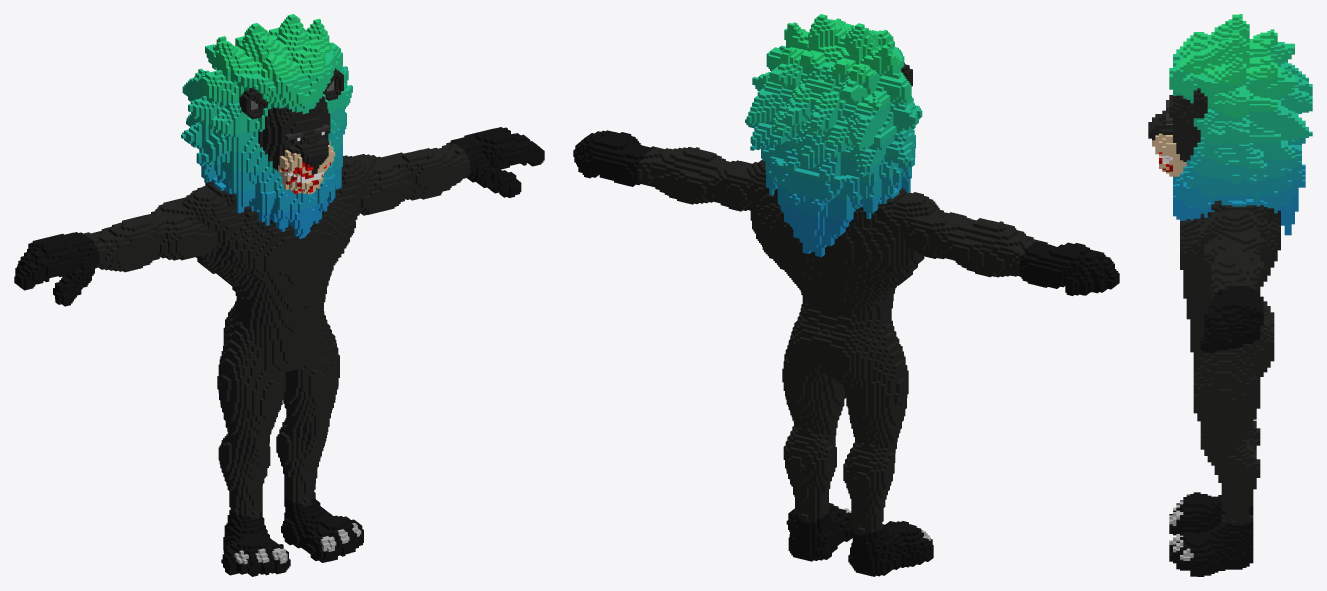
Rendered from 35-CjT2fbn5.glb.
3 renders of one model, left to right at view 1: azimuth 30°, elevation 25°; view 2: azimuth 150°, elevation 25°; view 3: azimuth 270°, elevation 25°, orthographic. The views are drawn at different scales.
Parts seen in each view (by area): view 1: blood; view 2: blood; view 3: blood.
Boxes of the visible parts, bbox=[...] form: blood: bbox=[14, 14, 544, 576]; blood: bbox=[573, 14, 1119, 576]; blood: bbox=[1148, 14, 1312, 576].
Bounding box in the file's own units: 17.2 × 16.5 × 4.7.
4 materials, 4 textured.
